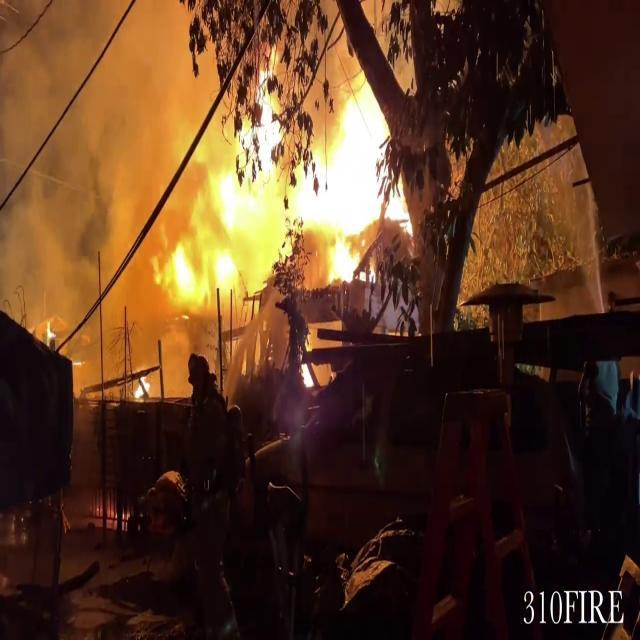Fire: (166, 36, 410, 320)
Smoke: (0, 0, 170, 369)
